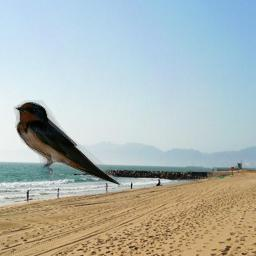Swallow: (13, 100, 122, 187)
